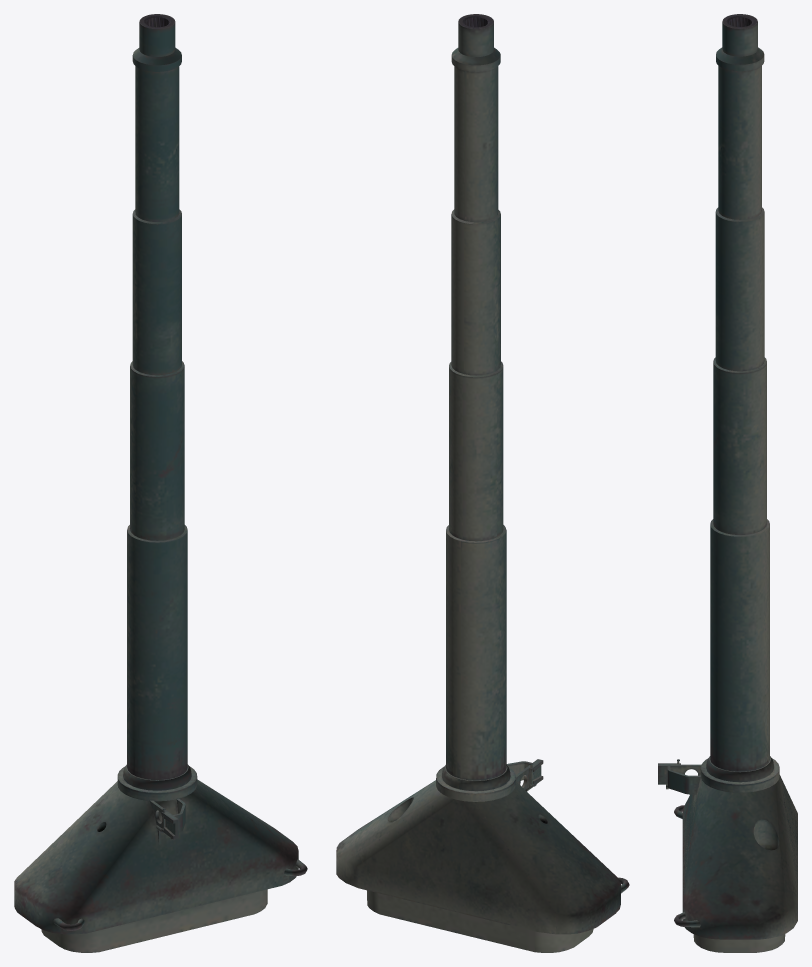
Rendered from Gun_06.glb.
The picture shows the model from 3 angles, left to right: view 1: azimuth 30°, elevation 25°; view 2: azimuth 150°, elevation 25°; view 3: azimuth 270°, elevation 25°; orthographic projection.
Parts seen in each view (by area): view 1: set_0_group_0; view 2: set_0_group_0; view 3: set_0_group_0.
Boxes of the visible parts, x1,y1,x2,y2 form: set_0_group_0: (14,14,307,952); set_0_group_0: (336,14,629,952); set_0_group_0: (658,14,797,952).
Size of the model in its own units: 1.38 by 4.59 by 0.6581.
1 material, 1 textured.
